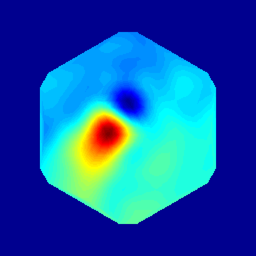ship: (113, 90, 144, 118)
wave: (88, 106, 132, 154)
